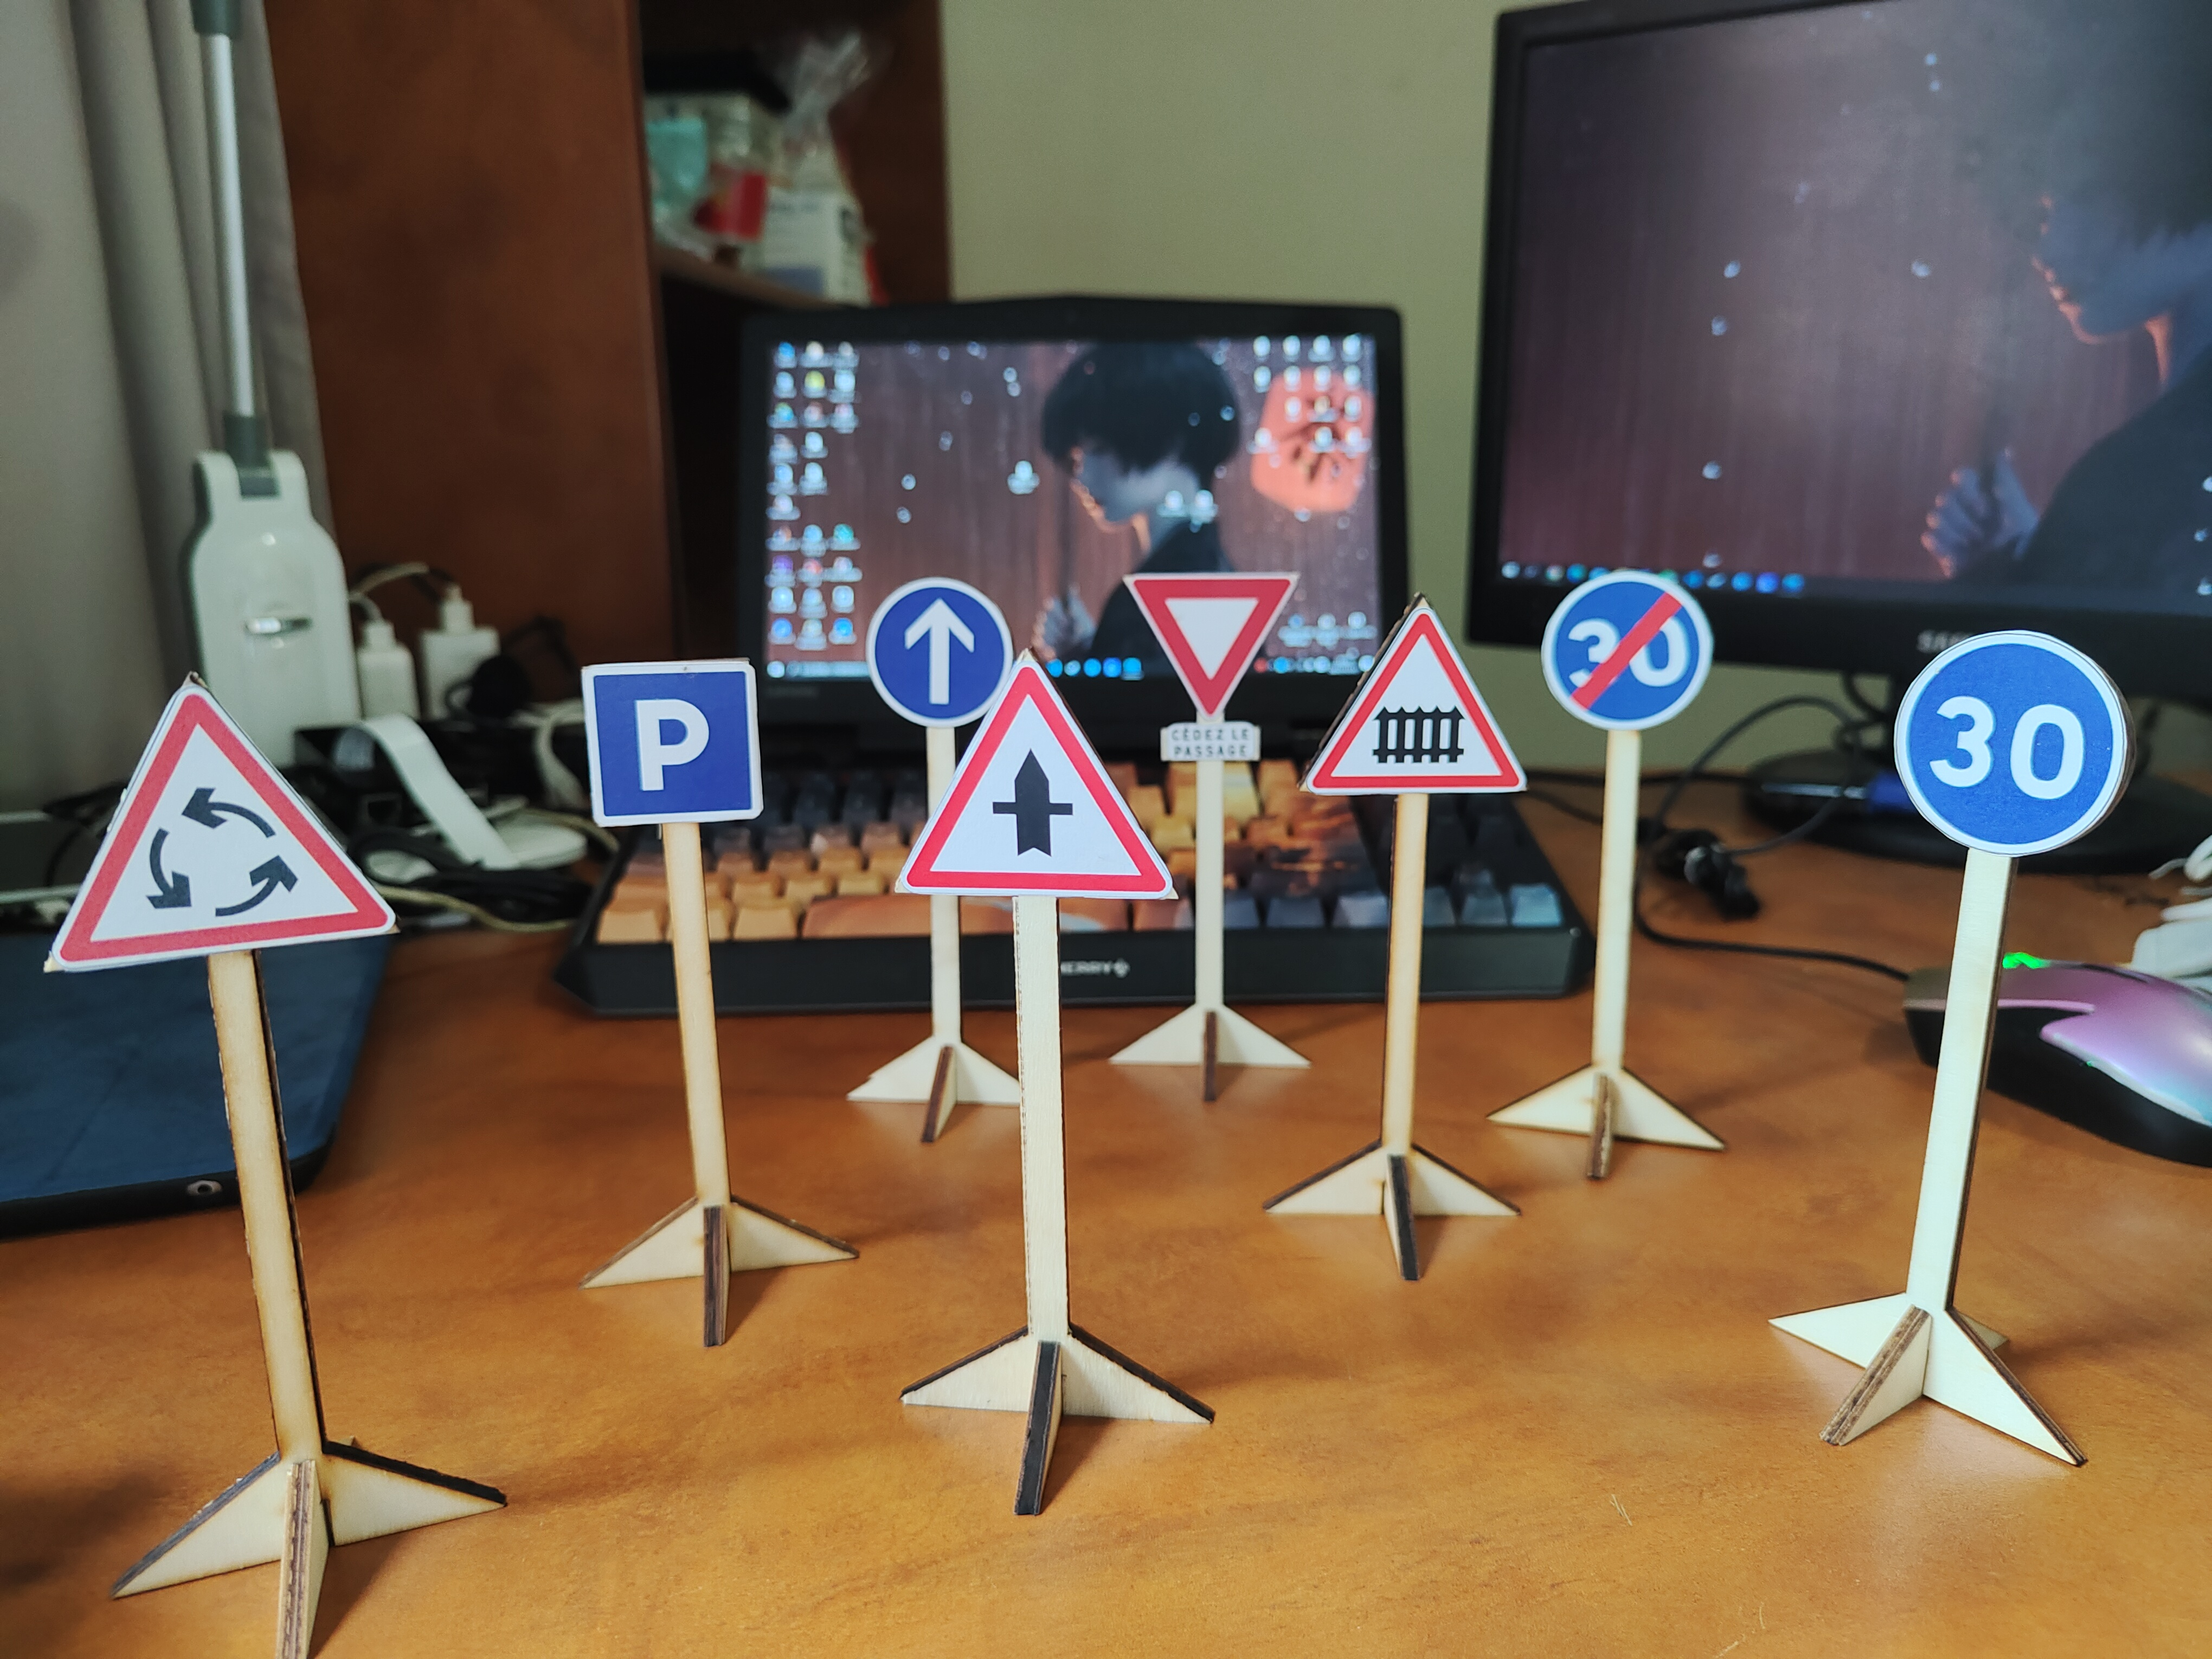P: (577, 655, 768, 828)
ban: (1543, 575, 1707, 734)
cycle: (38, 674, 402, 969)
first: (887, 652, 1172, 899)
second: (1120, 570, 1306, 765)
straight: (860, 575, 1003, 718)
thirty: (1900, 626, 2116, 857)
train: (1292, 591, 1526, 796)
